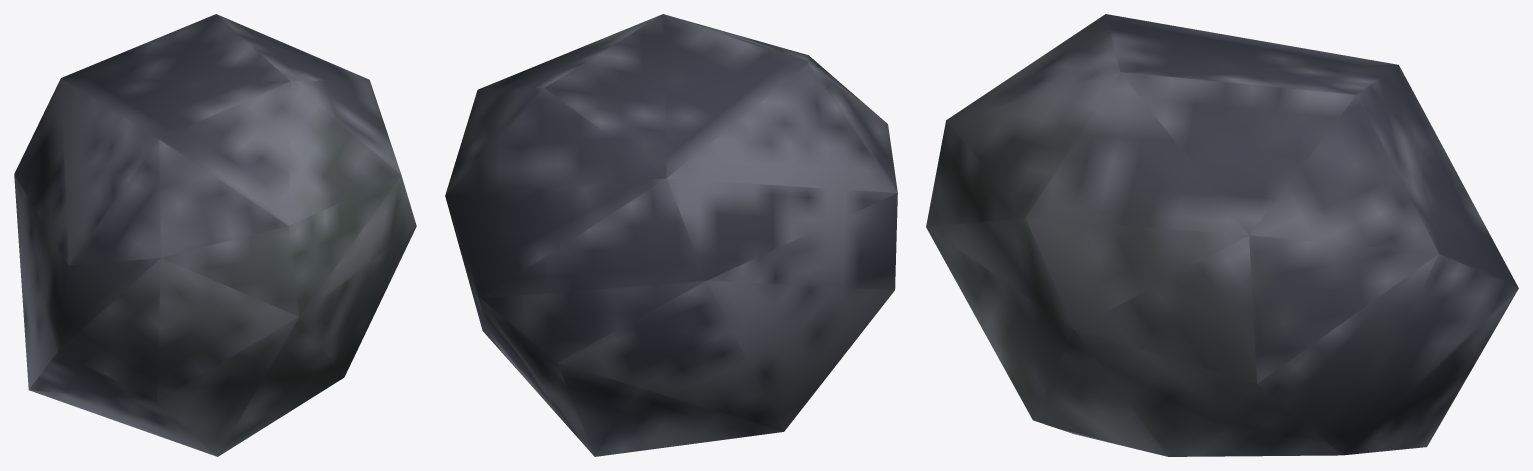
The model's file is Rock_02.fbx.
The picture shows the model from 3 angles, left to right: view 1: azimuth 30°, elevation 25°; view 2: azimuth 150°, elevation 25°; view 3: azimuth 270°, elevation 25°; orthographic projection. The views are drawn at different scales.
Visible parts, largest first — view 1: Rock_02; view 2: Rock_02; view 3: Rock_02.
Part boxes in pixels (bbox=[...]): Rock_02: bbox=[14, 14, 416, 456]; Rock_02: bbox=[445, 14, 897, 456]; Rock_02: bbox=[926, 14, 1518, 456].
Bounding box in the file's own units: 216 × 190 × 245.
Materials: 1 (1 with a texture image).
